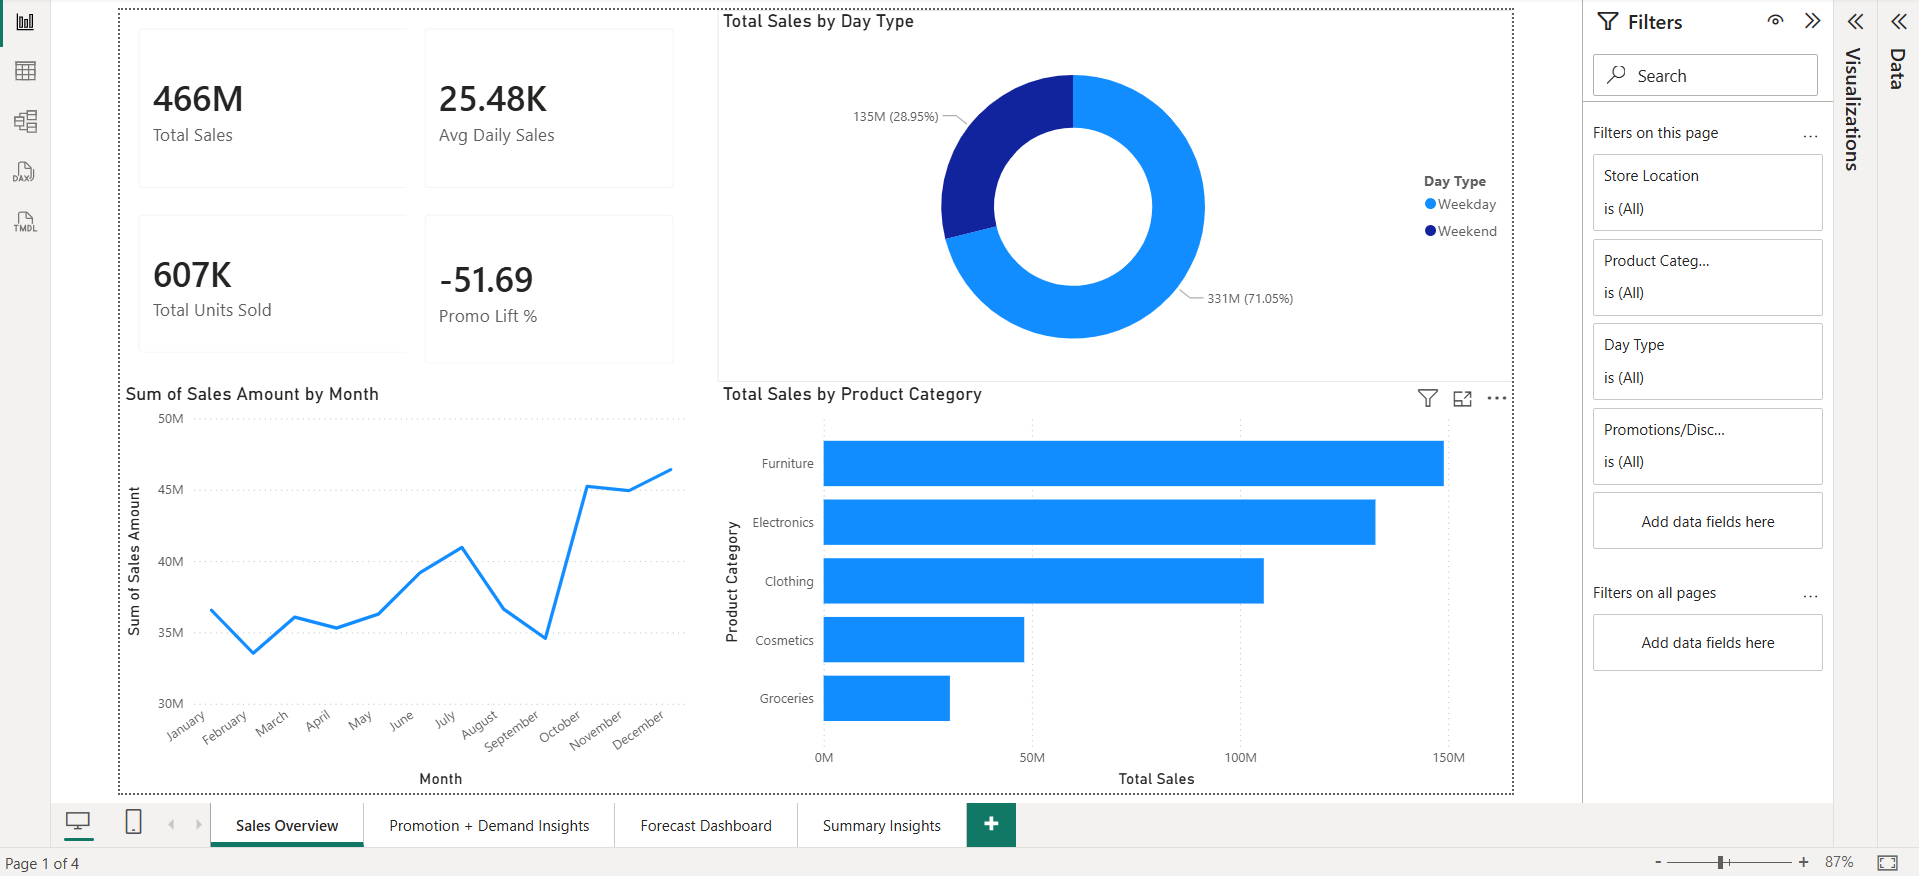

Layout of this report page (visuals, bound fields, positions):
{"tool":"powerbi","page":{"name":"Sales Overview","canvas":[1280,720],"ordinal":0},"visuals":[{"type":"cardVisual","fields":{"Data":["retail_sales_forecasting_dataset.Total Sales"]},"box":[0,0,284,181.1],"z":0},{"type":"cardVisual","fields":{"Data":["retail_sales_forecasting_dataset.Total Units Sold"]},"box":[0,171.5,284,161.9],"z":1000},{"type":"cardVisual","fields":{"Data":["retail_sales_forecasting_dataset.Avg Daily Sales"]},"box":[263.5,0,263.5,181.1],"z":2000},{"type":"cardVisual","fields":{"Data":["retail_sales_forecasting_dataset.Promo Lift %"]},"box":[263.5,171.5,263.5,171.5],"z":3000},{"type":"lineChart","fields":{"Category":["DateTable.Date.Variation.Date Hierarchy.Month"],"Y":["Sum(retail_sales_forecasting_dataset.Sales Amount)"]},"box":[0,343.1,526.9,377.4],"z":4000},{"type":"clusteredBarChart","fields":{"Category":["retail_sales_forecasting_dataset.Product Category"],"Y":["retail_sales_forecasting_dataset.Total Sales"]},"box":[548.9,343.1,731.4,377.4],"z":5000},{"type":"donutChart","fields":{"Category":["retail_sales_forecasting_dataset.Day Type"],"Y":["retail_sales_forecasting_dataset.Total Sales"]},"box":[548.9,0,731.4,343.1],"z":6000}]}

Visuals, with their boxes on the page's 1280x720 design canvas (x1, y1, x2, y2). These are canvas units, not pixel positions in the 1919x876 screenshot, which may show the page scaled, cropped or inside an application window:
cardVisual - retail_sales_forecasting_dataset.Total Sales: (0, 0, 284, 181)
cardVisual - retail_sales_forecasting_dataset.Total Units Sold: (0, 172, 284, 333)
cardVisual - retail_sales_forecasting_dataset.Avg Daily Sales: (264, 0, 527, 181)
cardVisual - retail_sales_forecasting_dataset.Promo Lift %: (264, 172, 527, 343)
lineChart - DateTable.Date.Variation.Date Hierarchy.Month x Sum(retail_sales_forecasting_dataset.Sales Amount): (0, 343, 527, 720)
clusteredBarChart - retail_sales_forecasting_dataset.Product Category x retail_sales_forecasting_dataset.Total Sales: (549, 343, 1280, 720)
donutChart - retail_sales_forecasting_dataset.Day Type x retail_sales_forecasting_dataset.Total Sales: (549, 0, 1280, 343)
